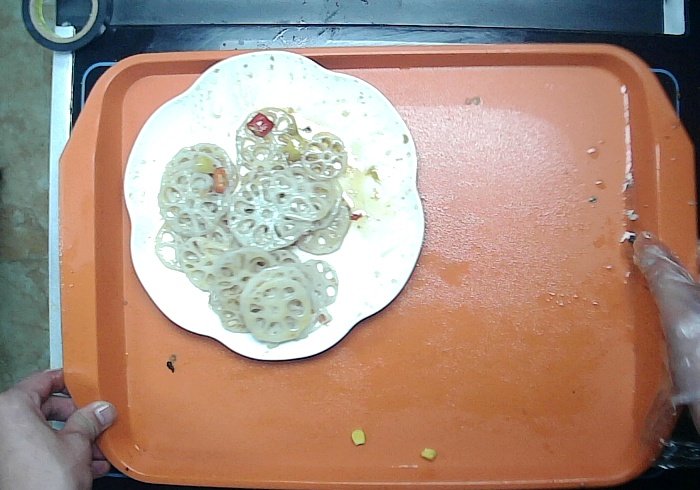HZYJPL-Bai_Se_Hua_Duo_Wan: (119, 44, 431, 366)
